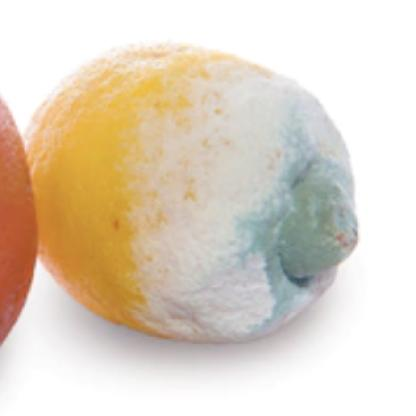rotten: (19, 45, 360, 346)
